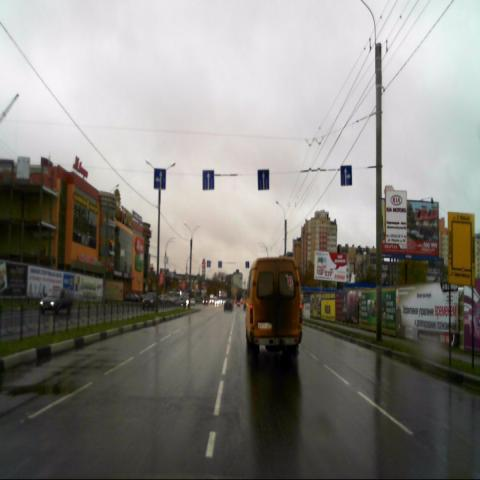5_15_2: (154, 168, 166, 190), (257, 169, 269, 190), (203, 169, 214, 191), (340, 165, 352, 185)
